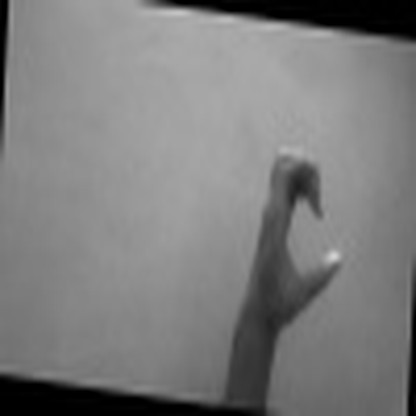c: (250, 142, 351, 327)
